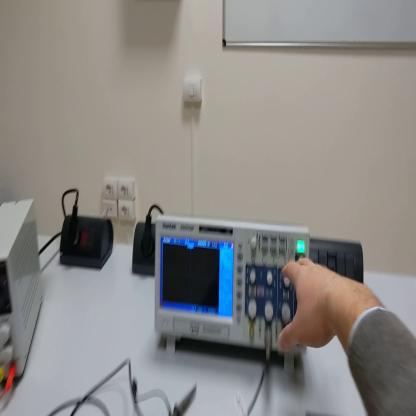hand: (278, 256, 340, 353)
oscilloscope: (152, 219, 310, 381)
oscilloscope probe tip: (171, 384, 198, 415)
power supply: (2, 201, 44, 375)
socket: (58, 213, 114, 274), (133, 221, 157, 276)
